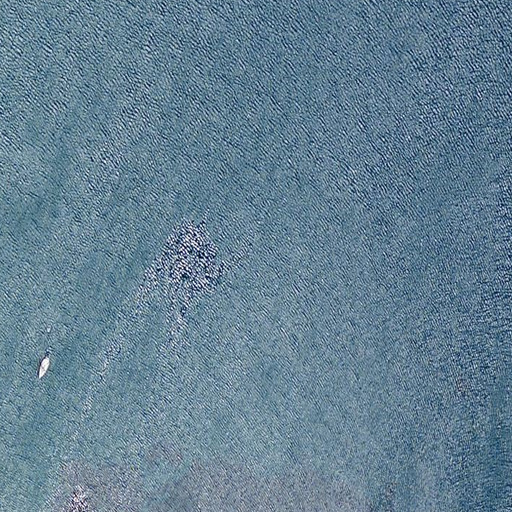ship: (36, 356, 52, 380)
